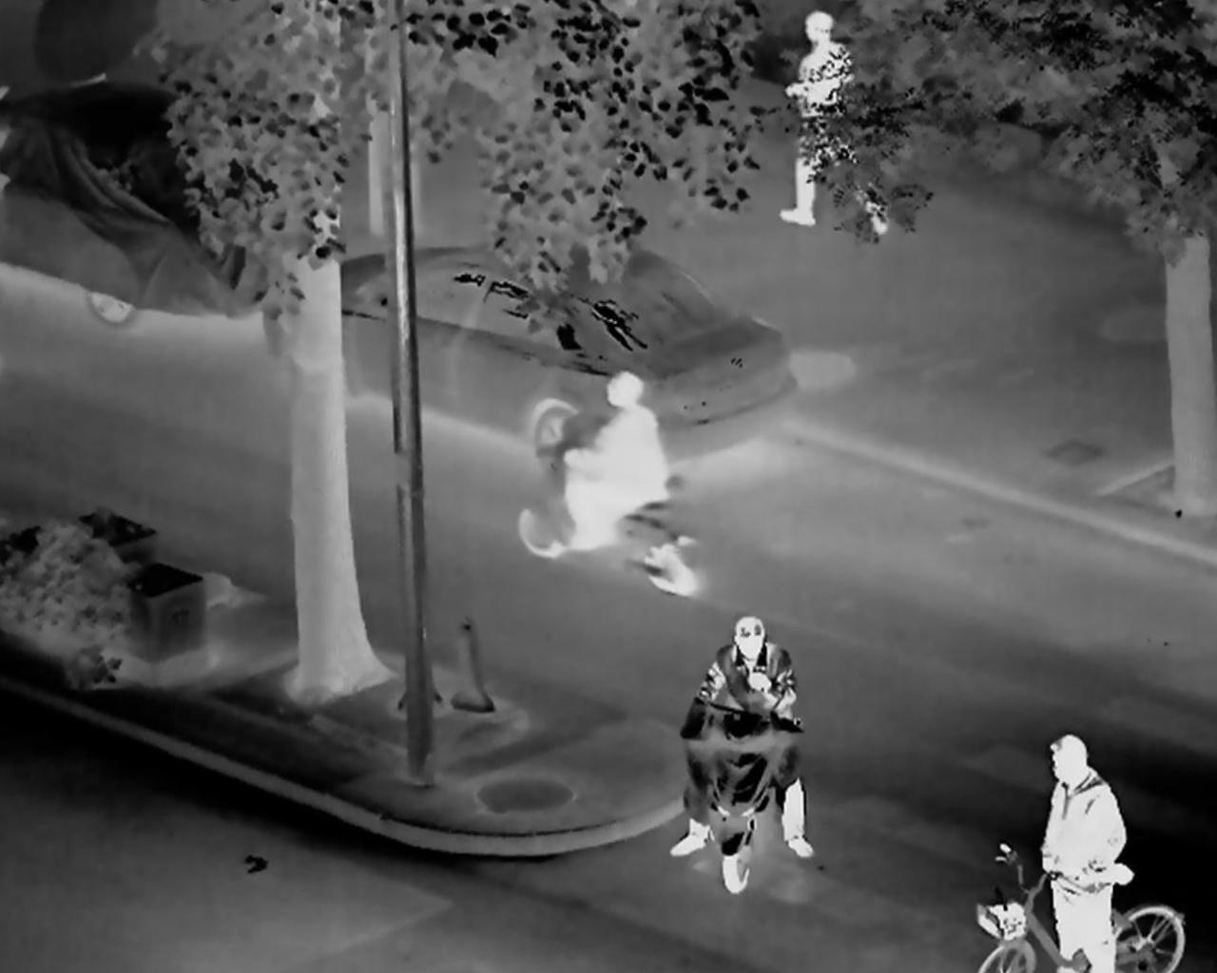person: (676, 609, 830, 864), (1013, 726, 1142, 973), (774, 6, 893, 249), (538, 362, 677, 562)
